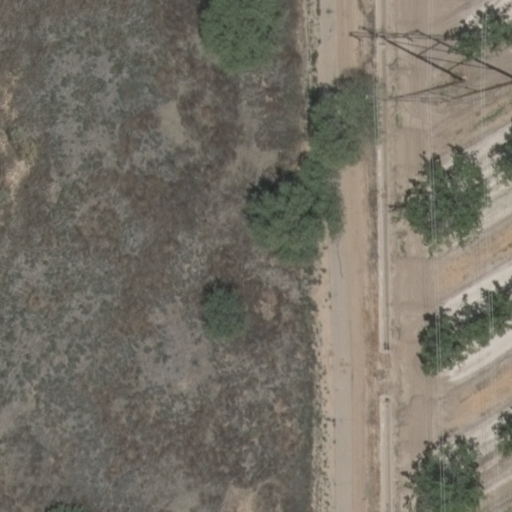DT: (370, 65, 512, 115)
